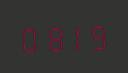eight: (41, 20, 63, 53)
nine: (87, 19, 109, 51)
one: (64, 19, 86, 52)
zero: (18, 21, 40, 53)
